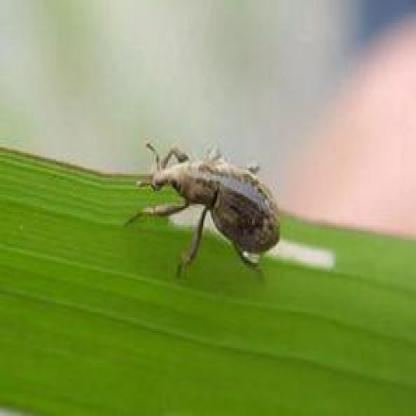rice-bug: (139, 142, 281, 266)
